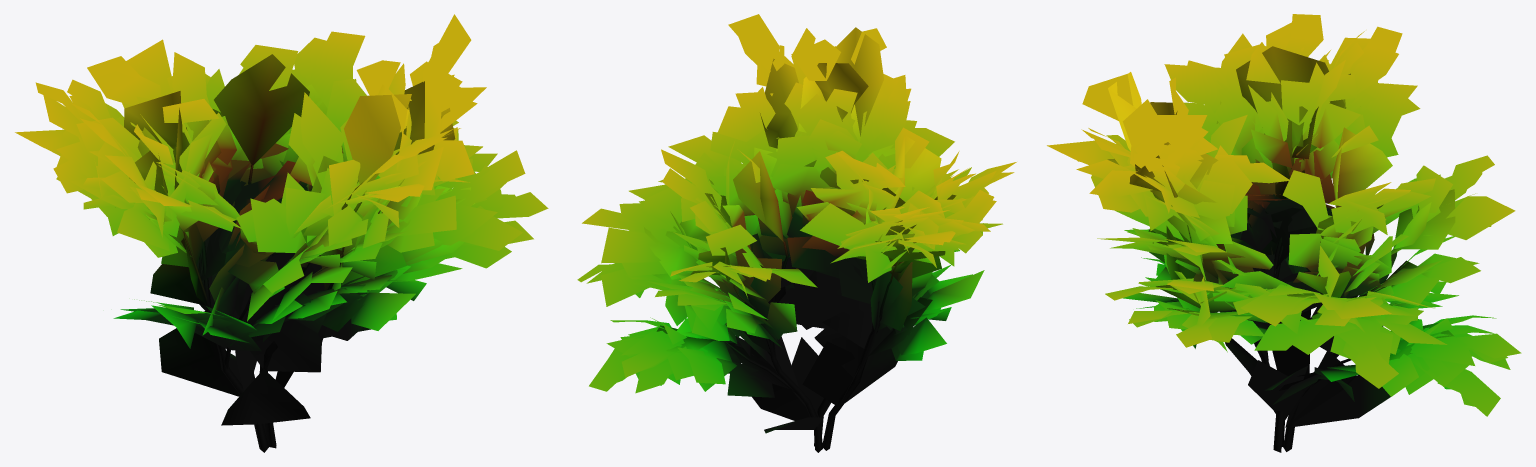
Rendered from interactive_arden_forest_bush_01.fbx.
The picture shows the model from 3 angles, left to right: view 1: azimuth 30°, elevation 25°; view 2: azimuth 150°, elevation 25°; view 3: azimuth 270°, elevation 25°; orthographic projection. The views are drawn at different scales.
Parts seen in each view (by area): view 1: interactive_arden_forest_bush_01; view 2: interactive_arden_forest_bush_01; view 3: interactive_arden_forest_bush_01.
Part boxes in pixels (bbox=[...]): interactive_arden_forest_bush_01: bbox=[15, 14, 548, 452]; interactive_arden_forest_bush_01: bbox=[577, 14, 1016, 452]; interactive_arden_forest_bush_01: bbox=[1047, 14, 1521, 452].
Bounding box in the file's own units: 221 × 209 × 223.
